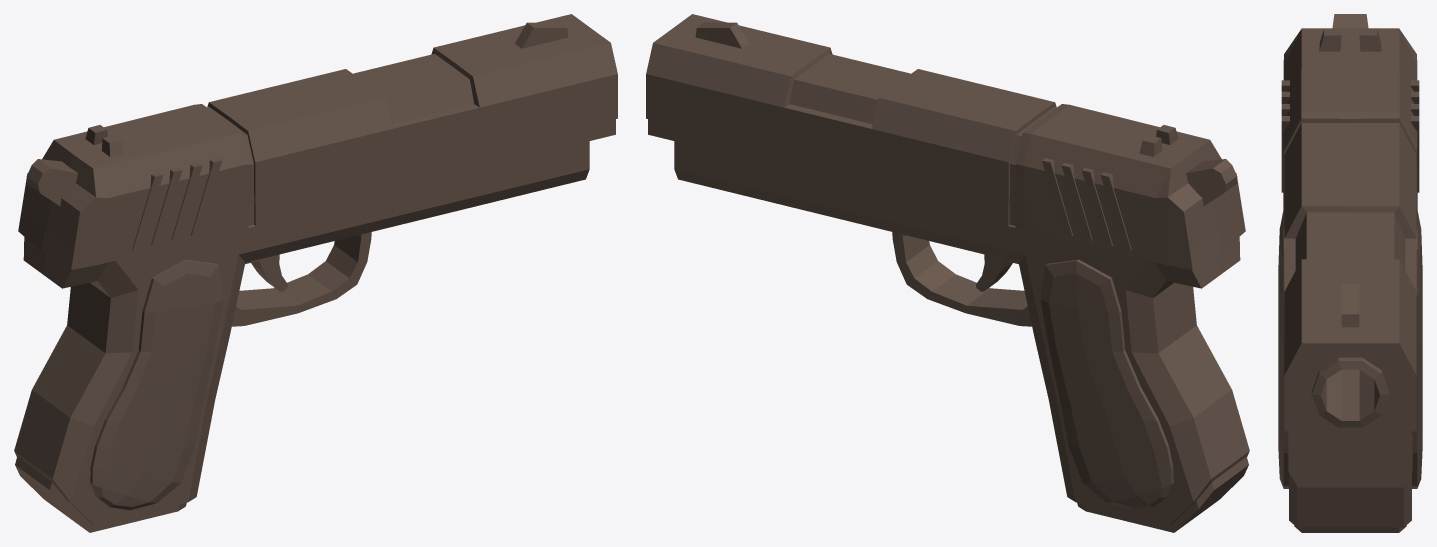
The model's file is Pistol_2 1.fbx.
The picture shows the model from 3 angles, left to right: view 1: azimuth 30°, elevation 25°; view 2: azimuth 150°, elevation 25°; view 3: azimuth 270°, elevation 25°; orthographic projection. The views are drawn at different scales.
Parts seen in each view (by area): view 1: Pistol_2; view 2: Pistol_2; view 3: Pistol_2.
Part boxes in pixels (x1,y1,x2,y2): Pistol_2: (14, 14, 617, 532); Pistol_2: (646, 14, 1249, 532); Pistol_2: (1278, 14, 1422, 532).
Bounding box in the file's own units: 182 × 116 × 32.32.
